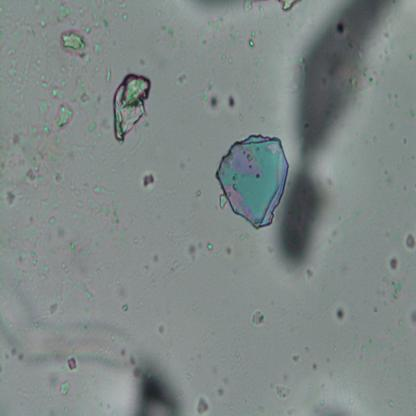Background material: (282, 0, 394, 265), (0, 284, 180, 415), (216, 133, 290, 228), (33, 128, 85, 242), (0, 11, 36, 118), (0, 123, 42, 205), (66, 68, 100, 151), (113, 74, 154, 142), (80, 0, 117, 57), (89, 186, 121, 235), (51, 274, 100, 304), (307, 389, 359, 416), (368, 273, 403, 313), (33, 53, 62, 98), (23, 248, 53, 284), (187, 1, 256, 16), (62, 33, 91, 63), (154, 8, 179, 39), (52, 103, 74, 129), (177, 59, 196, 89), (58, 0, 76, 30), (184, 243, 202, 265), (141, 170, 156, 192), (207, 92, 222, 114), (332, 304, 348, 324), (273, 383, 293, 399), (216, 47, 235, 63), (196, 394, 211, 414), (247, 29, 260, 52), (250, 310, 266, 328), (278, 0, 300, 12), (57, 378, 70, 398), (403, 231, 416, 250), (156, 322, 170, 339), (66, 354, 78, 373), (211, 384, 226, 399), (36, 15, 48, 33), (384, 388, 394, 408), (226, 92, 237, 110), (389, 255, 398, 273), (105, 67, 113, 85), (409, 308, 416, 327), (190, 185, 202, 196), (224, 244, 234, 256), (306, 265, 315, 278), (118, 12, 129, 22), (121, 304, 129, 316), (309, 360, 319, 369), (68, 240, 77, 249), (206, 242, 214, 249), (292, 353, 299, 361), (306, 348, 310, 353)
